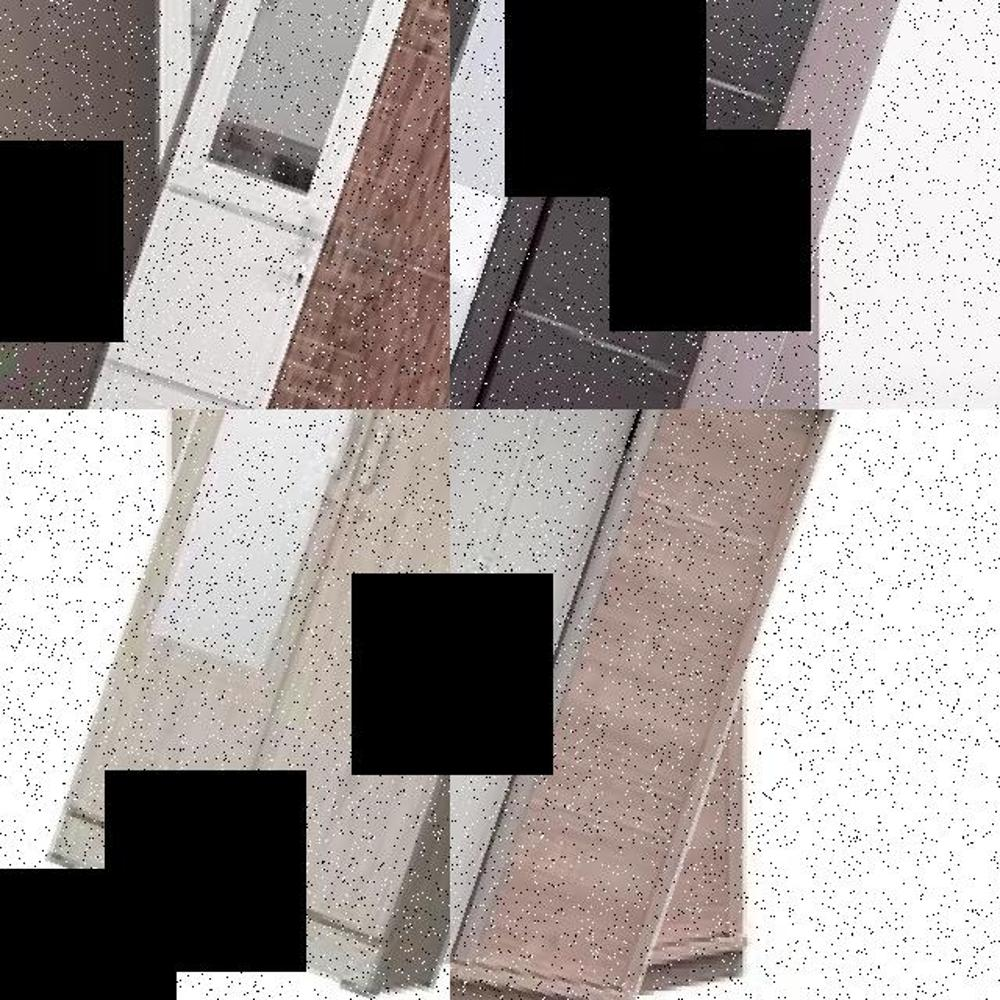cabinet: (450, 409, 808, 1000), (98, 409, 450, 998), (450, 0, 894, 409), (89, 0, 450, 409)
